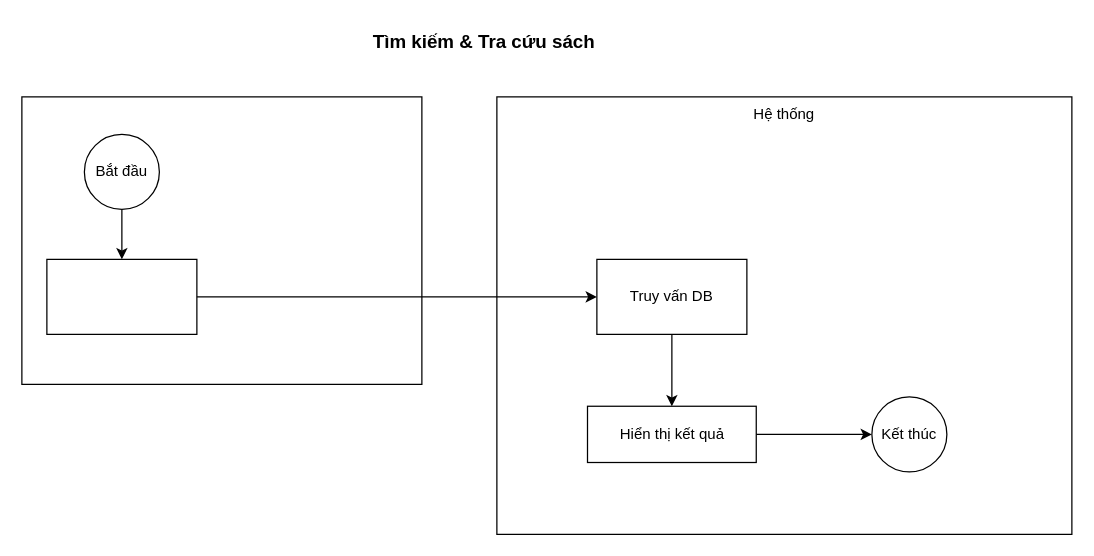
Some shapes in this 1094 by 556 pixel diagram are drawn without their labels. The box of each missing label's shape, as (x1, y1, x2, y2) in pixels:
Người dùng: (21, 96, 422, 384)
Nhập từ khóa vào ô tìm kiếm: (46, 258, 197, 334)
